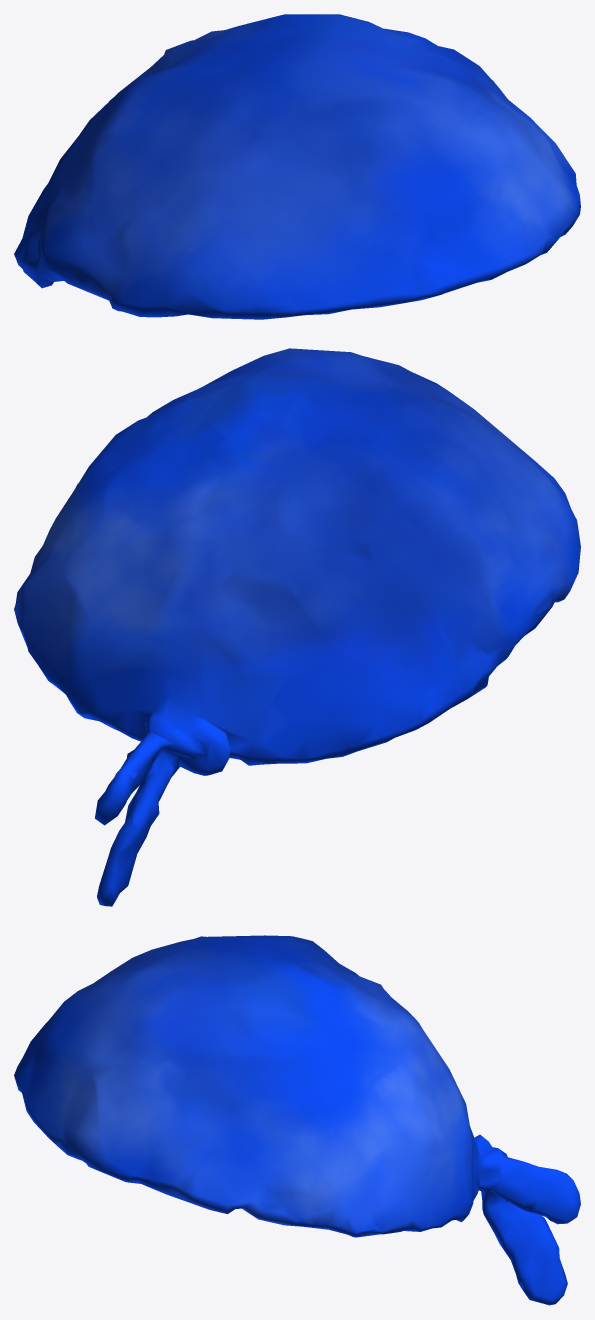
Rendered from bandana blue.glb.
3 views of the same model, one above another, from view 1: azimuth 30°, elevation 25°; view 2: azimuth 150°, elevation 25°; view 3: azimuth 270°, elevation 25° (orthographic). The views are drawn at different scales.
Parts seen in each view (by area): view 1: hat_bandana_blue.001; view 2: hat_bandana_blue.001; view 3: hat_bandana_blue.001.
Part boxes in pixels (left/top/right/bottom): hat_bandana_blue.001: left=14, top=14, right=580, bottom=319; hat_bandana_blue.001: left=14, top=348, right=580, bottom=906; hat_bandana_blue.001: left=14, top=935, right=580, bottom=1305.
Size of the model in its own units: 0.3427 by 0.2756 by 0.4173.
Materials: 1 (1 with a texture image).
